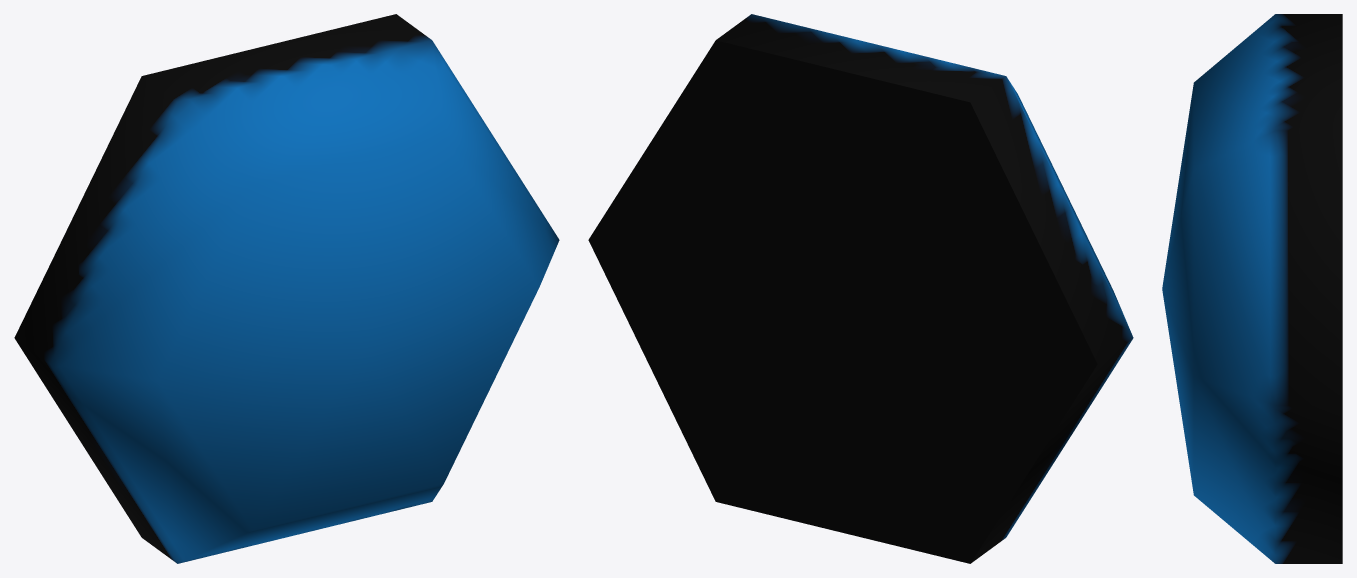
File: MagnetC.FBX
3 renders of one model, left to right at view 1: azimuth 30°, elevation 25°; view 2: azimuth 150°, elevation 25°; view 3: azimuth 270°, elevation 25°, orthographic. The views are drawn at different scales.
Visible parts, largest first — view 1: MagnetC; view 2: MagnetC; view 3: MagnetC.
Boxes of the visible parts, x1,y1,x2,y2 form: MagnetC: [14, 14, 559, 563]; MagnetC: [588, 14, 1133, 563]; MagnetC: [1162, 14, 1342, 563].
Size of the model in its own units: 0.9513 by 0.8239 by 0.3113.
